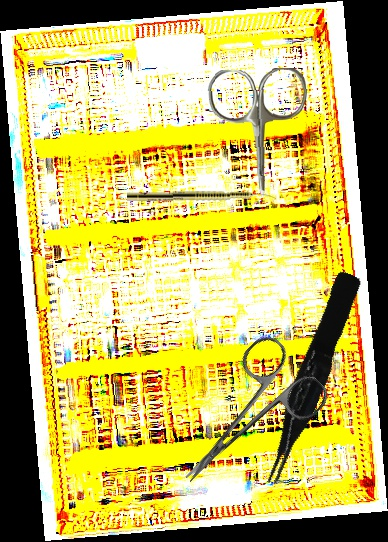Handpiece: (126, 189, 277, 204)
Iris Scissors: (152, 329, 334, 511), (206, 67, 312, 199)
Tissue Forceps: (249, 269, 371, 488)
